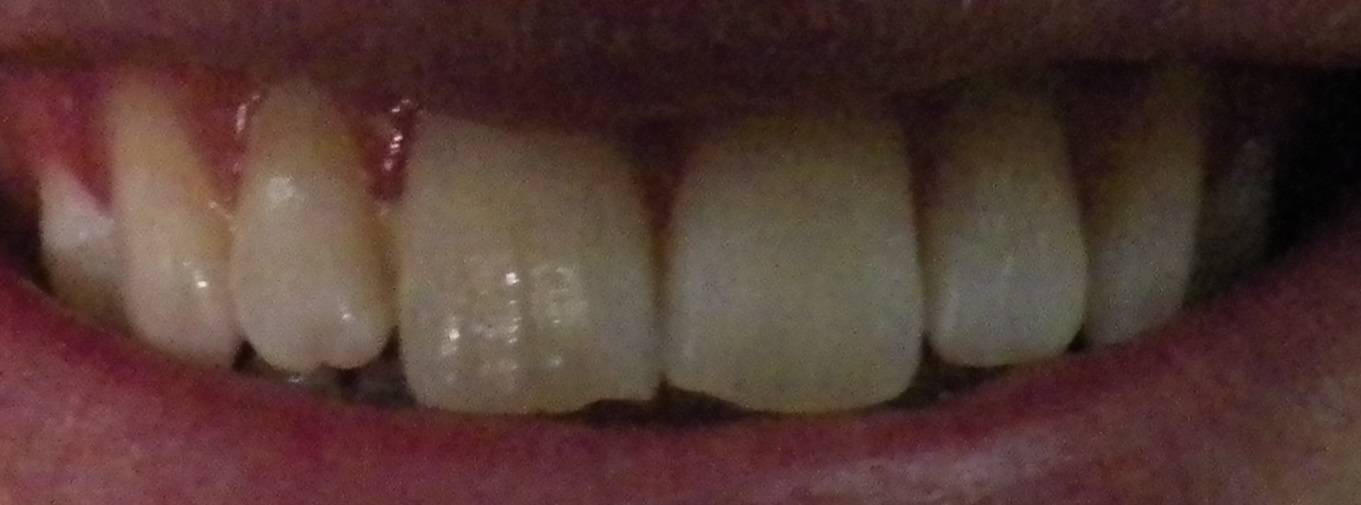boca: (24, 78, 1275, 413)
